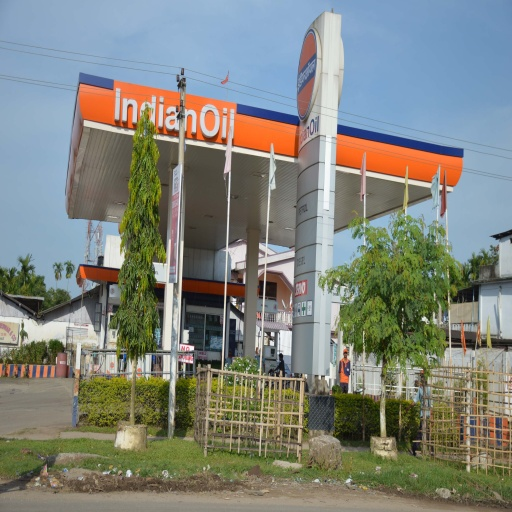roof: (63, 74, 465, 246)
